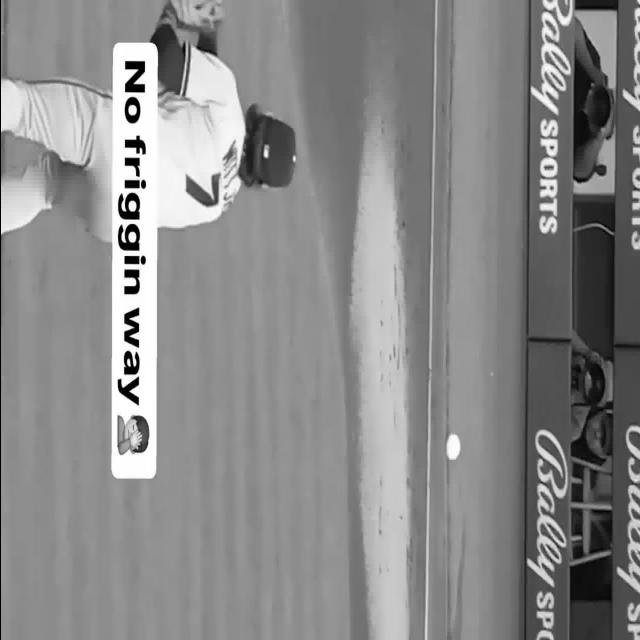baseball: (445, 433, 460, 460)
baseball_glove: (170, 0, 224, 31)
